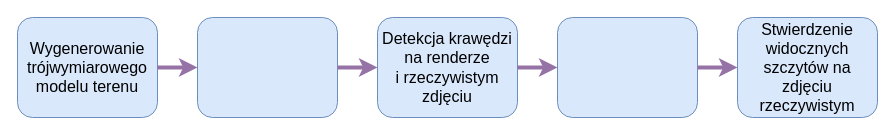
Some shapes in this 895 by 135 pixel diagram are drawn without their labels. The shapes that lost their labels are listed below. From the top down, each one's box as (x1, y1, x2, y2) in pixels, then its label:
(196, 16, 338, 118): Określenie widocznych szczytów na renderze
(556, 16, 698, 118): Dopasowanie obu zdjęć
